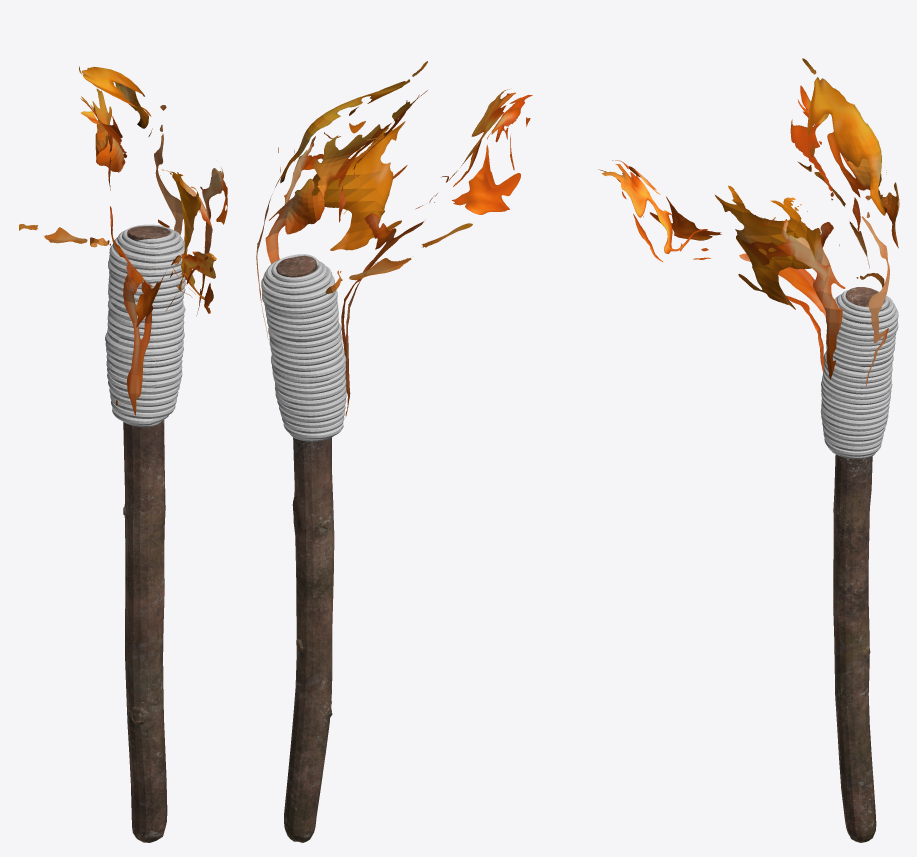
Rendered from Hand_Torch_Burning.obj.
3 views of the same model, side by side, from view 1: azimuth 30°, elevation 25°; view 2: azimuth 150°, elevation 25°; view 3: azimuth 270°, elevation 25° (orthographic). The views are drawn at different scales.
Parts seen in each view (by area): view 1: Stick, Rope, Fire_Base, Fire_02, Fire_0; view 2: Stick, Fire_Base, Rope, Fire_0, Fire_02; view 3: Fire_Base, Stick, Rope, Fire_02.
Boxes of the visible parts, box(x1,y1,x2,y2) form: Stick: box(123, 226, 169, 842); Rope: box(105, 224, 187, 427); Fire_Base: box(79, 66, 216, 415); Fire_02: box(200, 167, 227, 224); Fire_0: box(19, 224, 94, 243); Stick: box(276, 255, 334, 842); Fire_Base: box(256, 61, 532, 416); Rope: box(261, 254, 346, 441); Fire_0: box(341, 223, 472, 280); Fire_02: box(284, 132, 349, 213); Fire_Base: box(599, 58, 899, 385); Stick: box(833, 287, 878, 842); Rope: box(820, 290, 898, 459); Fire_02: box(741, 217, 830, 291).
Size of the model in its own units: 17.35 by 62.59 by 23.36.
